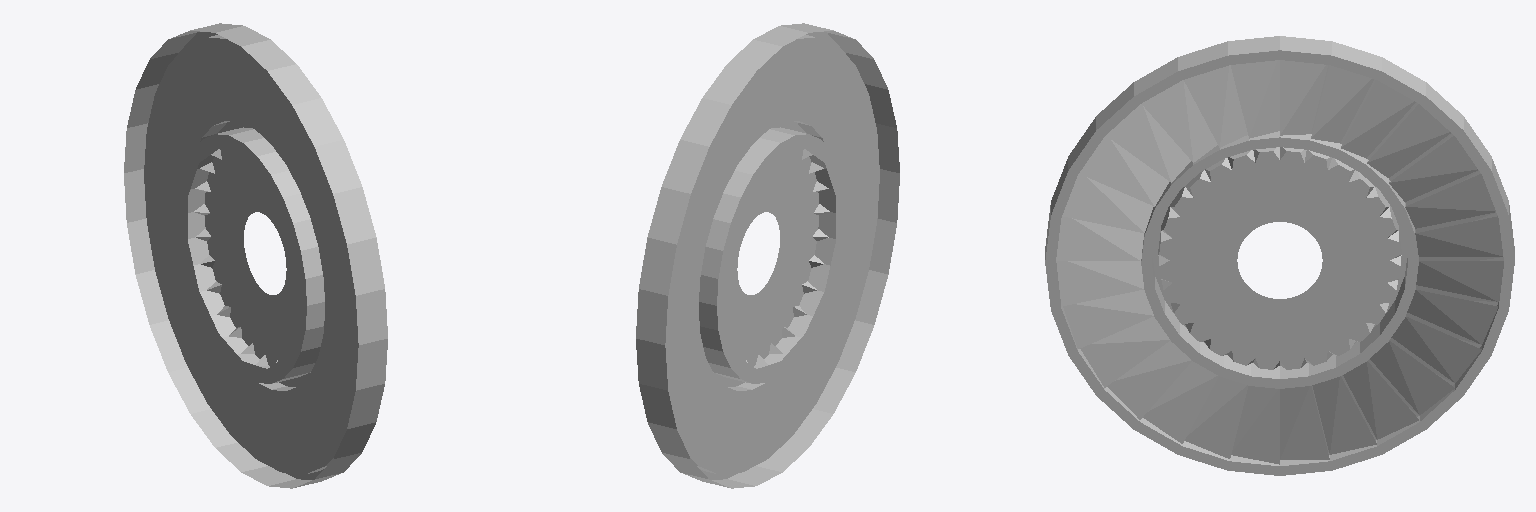
The model's file is stg300_Motturbine_14.obj.
3 renders of one model, left to right at view 1: azimuth 30°, elevation 25°; view 2: azimuth 150°, elevation 25°; view 3: azimuth 270°, elevation 25°, orthographic.
Visible parts, largest first — view 1: polygon0, polygon1; view 2: polygon0, polygon1; view 3: polygon0, polygon1.
Boxes of the visible parts, box(x1,y1,x2,y2) form: polygon0: box(124, 23, 387, 488); polygon1: box(188, 149, 297, 368); polygon0: box(636, 23, 899, 488); polygon1: box(726, 149, 835, 368); polygon0: box(1045, 36, 1514, 475); polygon1: box(1158, 147, 1401, 369).
Bounding box in the file's own units: 16 × 220 × 220.